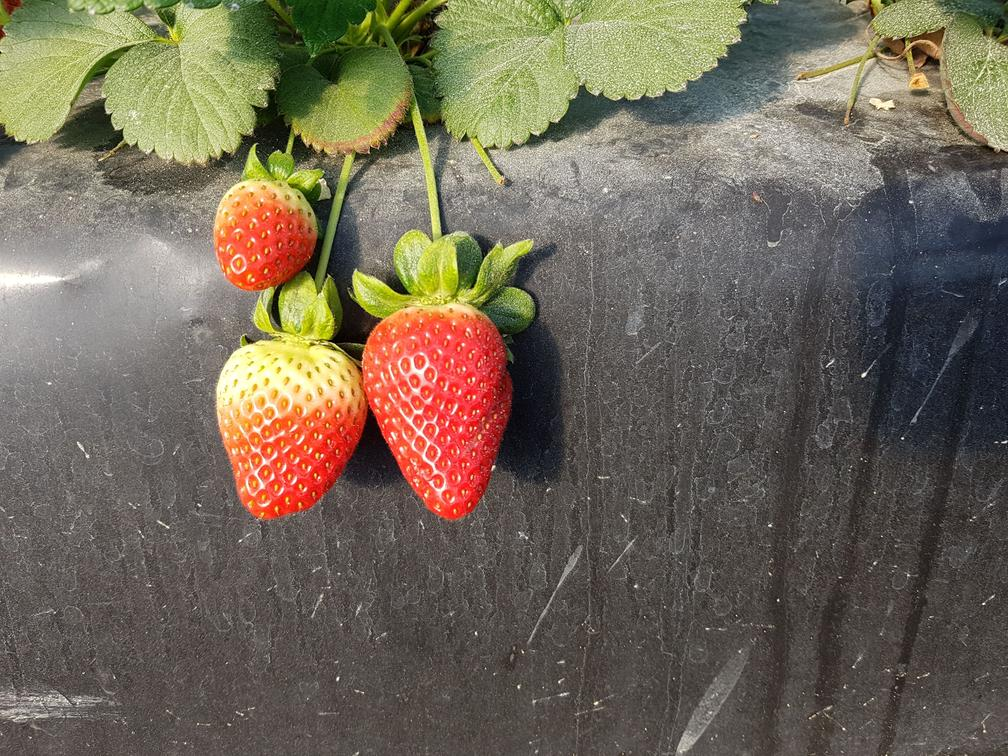Ripe: (364, 299, 519, 522), (214, 338, 363, 519), (214, 183, 330, 291)
